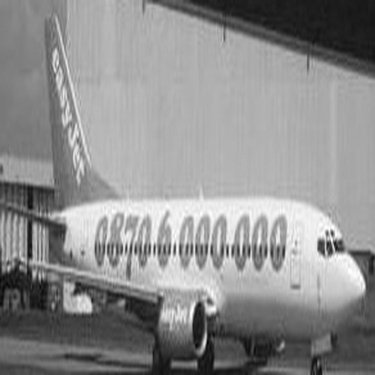airplane: (8, 2, 368, 371)
